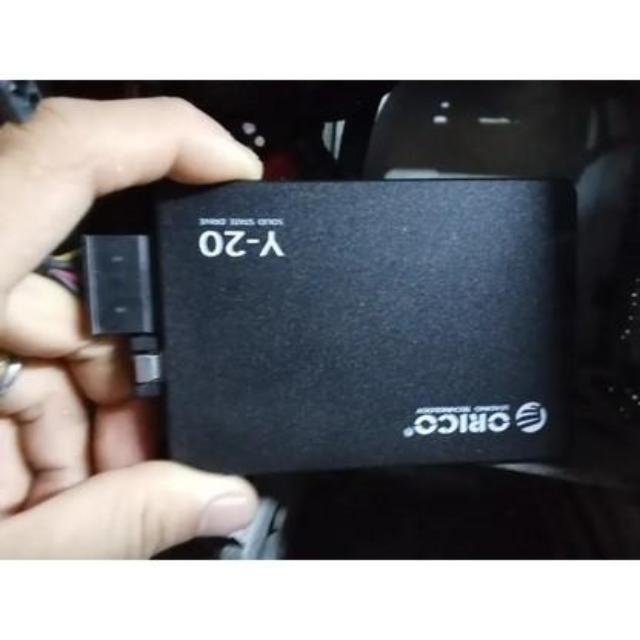DISK: (150, 166, 576, 484)
